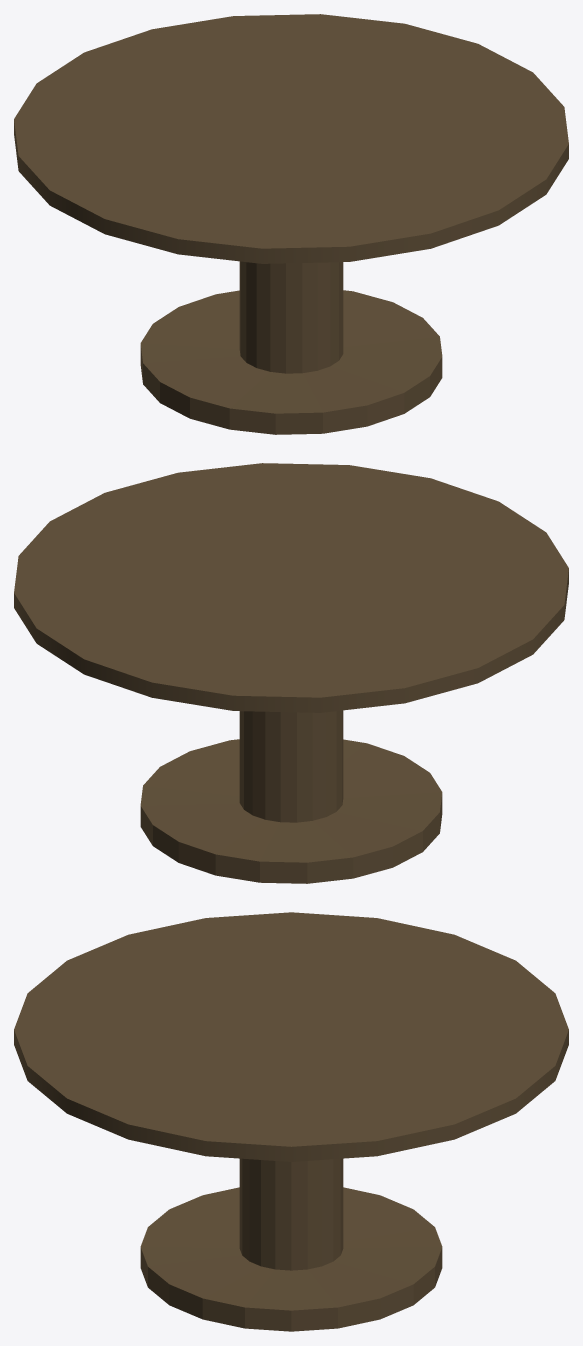
File: Mesa 1.fbx
3 views of the same model, one above another, from view 1: azimuth 30°, elevation 25°; view 2: azimuth 150°, elevation 25°; view 3: azimuth 270°, elevation 25° (orthographic).
Parts seen in each view (by area): view 1: pCylinder29; view 2: pCylinder29; view 3: pCylinder29.
Part boxes in pixels (x1,y1,x2,y2): pCylinder29: (14,14,568,434); pCylinder29: (14,463,568,883); pCylinder29: (14,912,568,1331).
Size of the model in its own units: 5.92 by 2.81 by 5.92.
